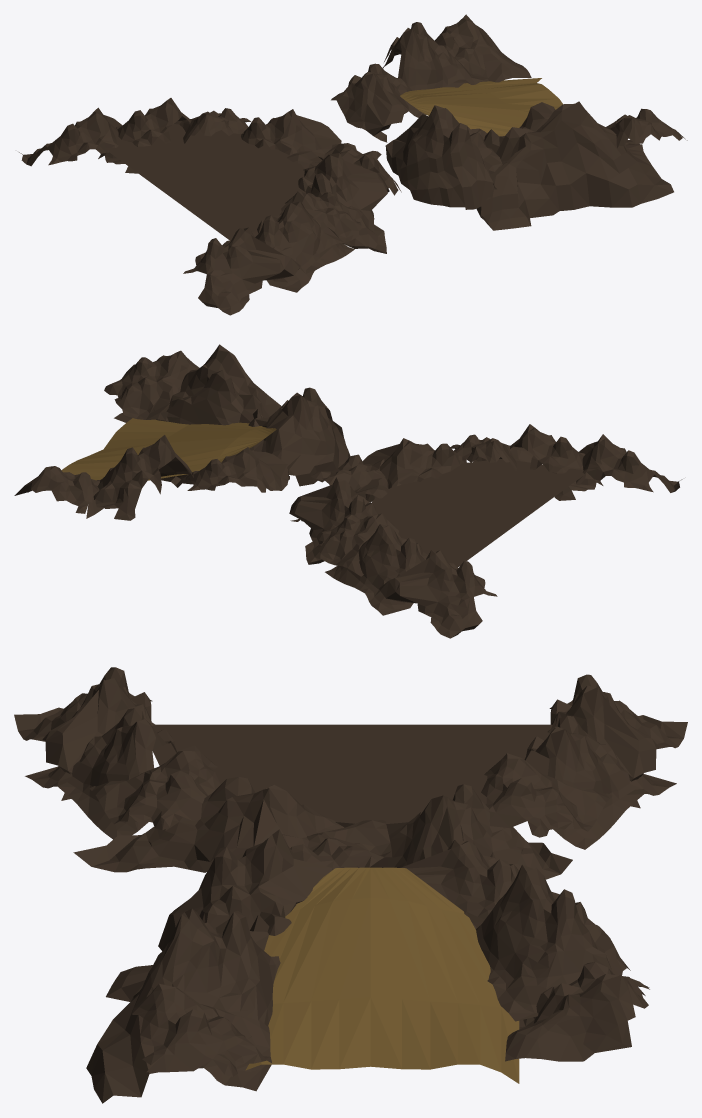
The model's file is Ondergrond_Disney_Kasteel.FBX.
The picture shows the model from 3 angles, top to bottom: view 1: azimuth 30°, elevation 25°; view 2: azimuth 150°, elevation 25°; view 3: azimuth 270°, elevation 25°; orthographic projection. The views are drawn at different scales.
Visible parts, largest first — view 1: Object003; view 2: Object003; view 3: Object003.
Part boxes in pixels (left/top/right/bottom): Object003: left=19, top=14, right=687, bottom=315; Object003: left=14, top=344, right=682, bottom=638; Object003: left=14, top=667, right=687, bottom=1103.
Bounding box in the file's own units: 66.39 × 11.56 × 48.74.
